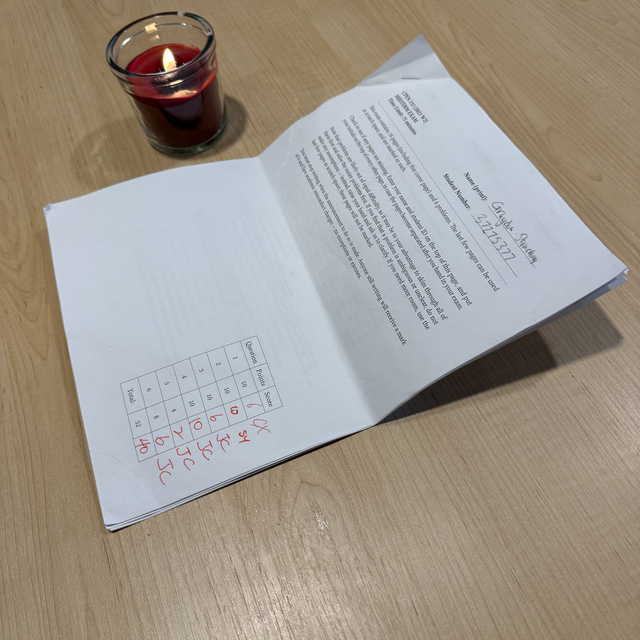Candle: (109, 11, 231, 151)
Paper: (54, 37, 622, 519)
